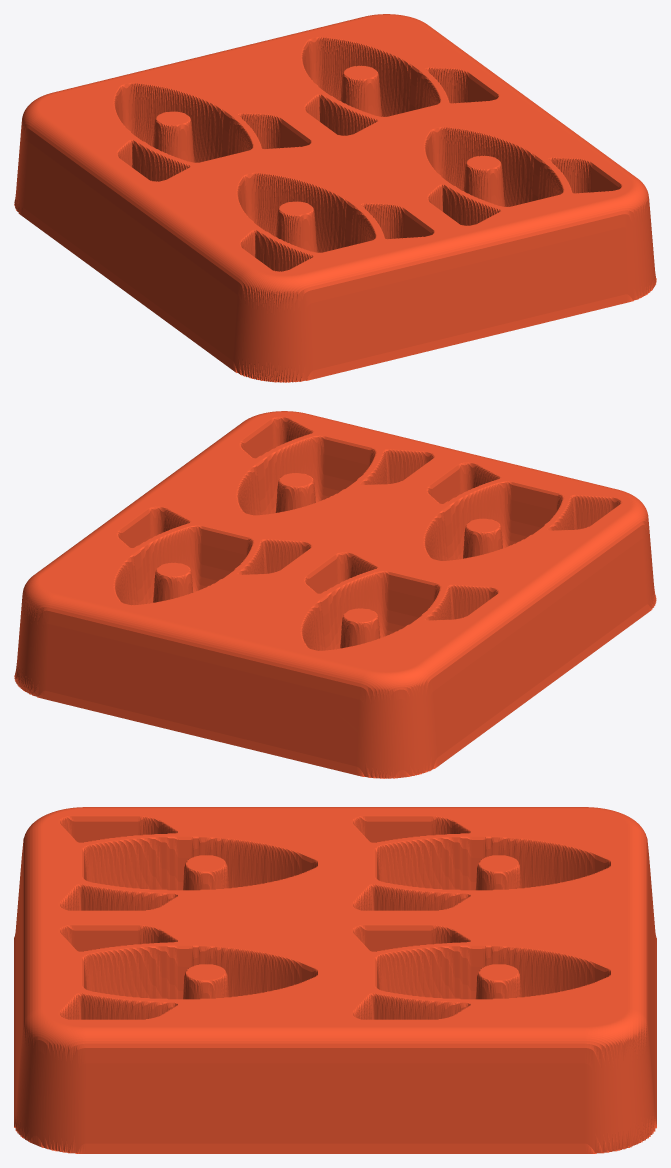
The model's file is mold.glb.
3 views of the same model, one above another, from view 1: azimuth 30°, elevation 25°; view 2: azimuth 150°, elevation 25°; view 3: azimuth 270°, elevation 25° (orthographic). The views are drawn at different scales.
Visible parts, largest first — view 1: geometry_0; view 2: geometry_0; view 3: geometry_0.
Boxes of the visible parts, x1=… form: geometry_0: x1=14, y1=14, x2=656, y2=382; geometry_0: x1=14, y1=411, x2=656, y2=778; geometry_0: x1=14, y1=807, x2=656, y2=1153.
Bounding box in the file's own units: 0.072 × 0.0159 × 0.0808.
